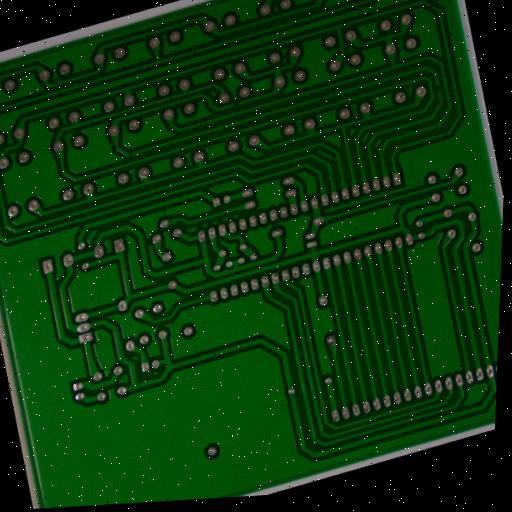open_circuit: (314, 92, 328, 105), (426, 0, 439, 12), (434, 80, 444, 95), (230, 99, 243, 110)
